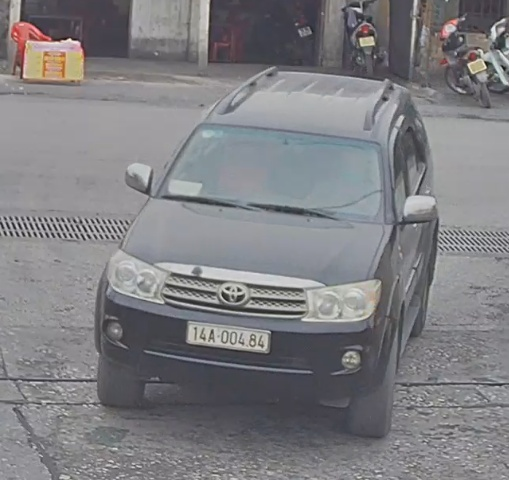vehicle plate: (184, 319, 274, 355)
